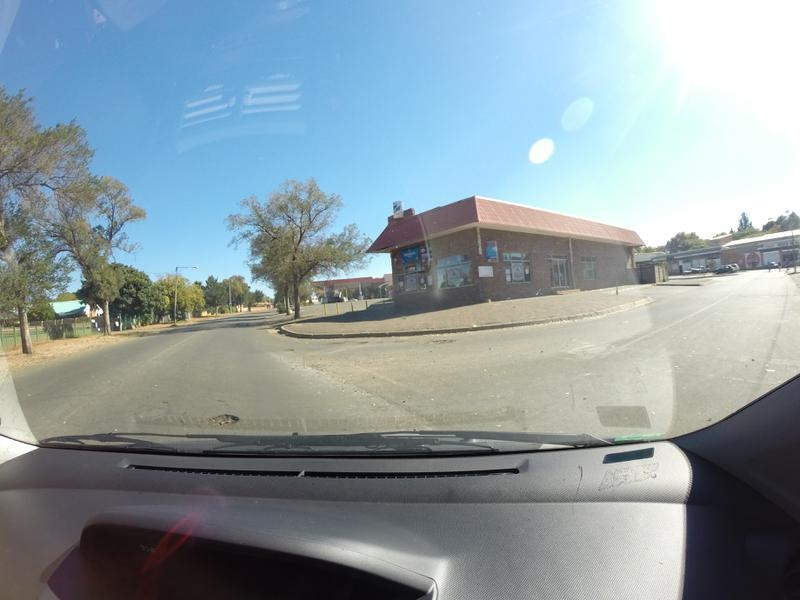pothole: (208, 410, 245, 423)
